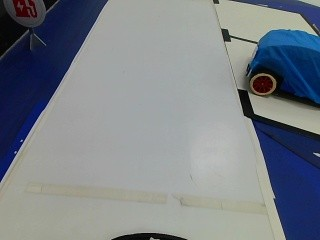battery: (1, 0, 47, 28)
car: (242, 28, 318, 104)
